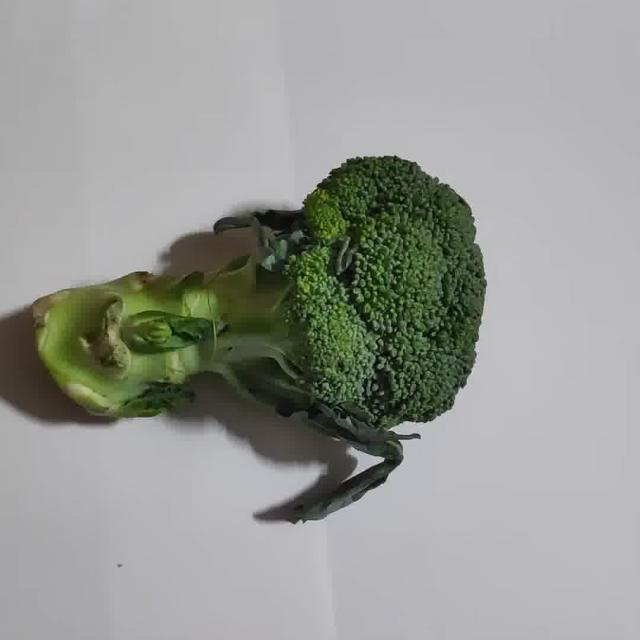Broccoli: (0, 156, 486, 523)
